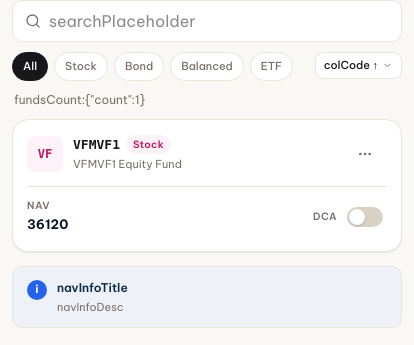
Test case: MobileFundLibraryView — edit/delete menu › closes on Escape without opening anything
Click the button named "fundActions".
click(365, 154)  # box 343,132 -> 387,176
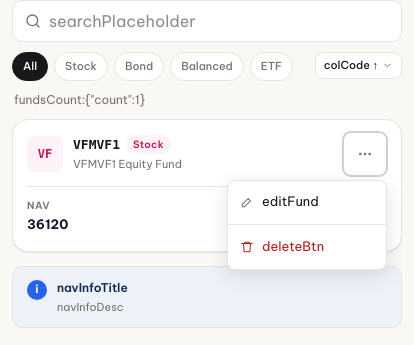
Press Escape
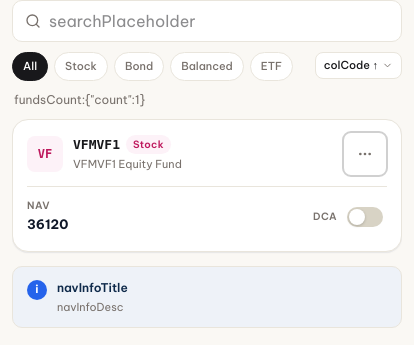
Check: the menu is gone
